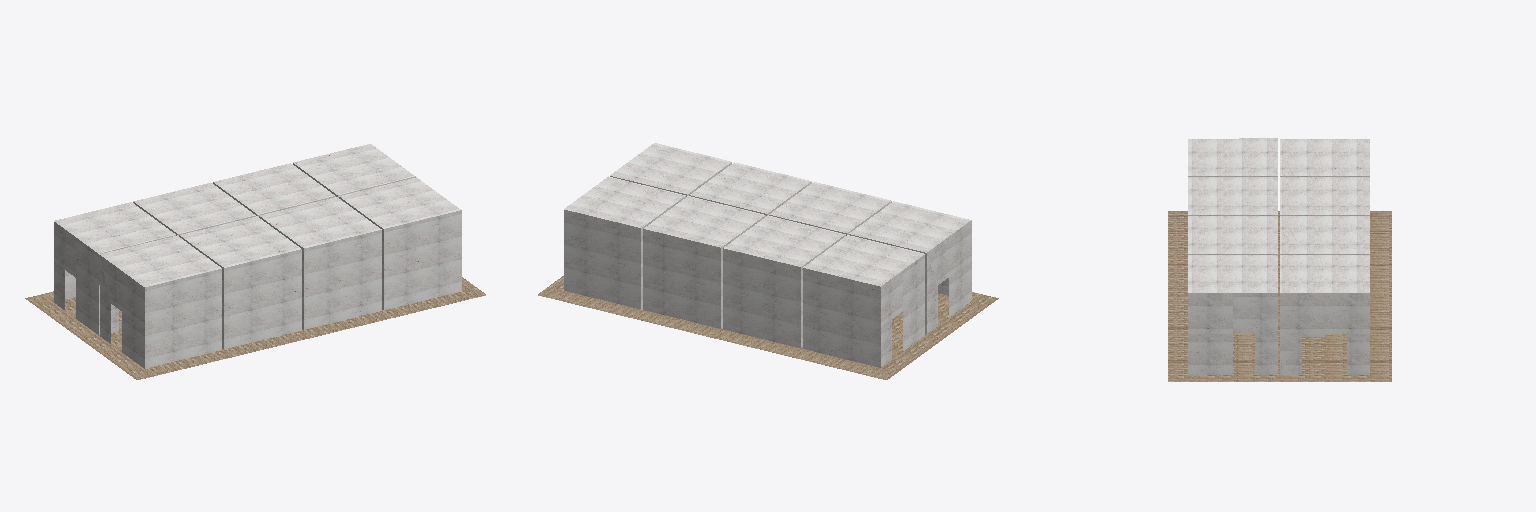
3 renders of one model, left to right at view 1: azimuth 30°, elevation 25°; view 2: azimuth 150°, elevation 25°; view 3: azimuth 270°, elevation 25°, orthographic.
Size of the model in its own units: 9 by 2 by 5.
13 materials, 6 textured.